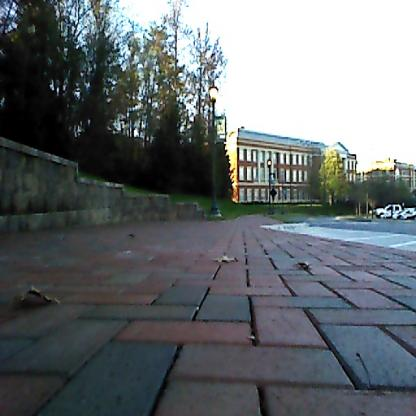Edge: (0, 213, 164, 260)
Sidewalk: (0, 216, 416, 416)
